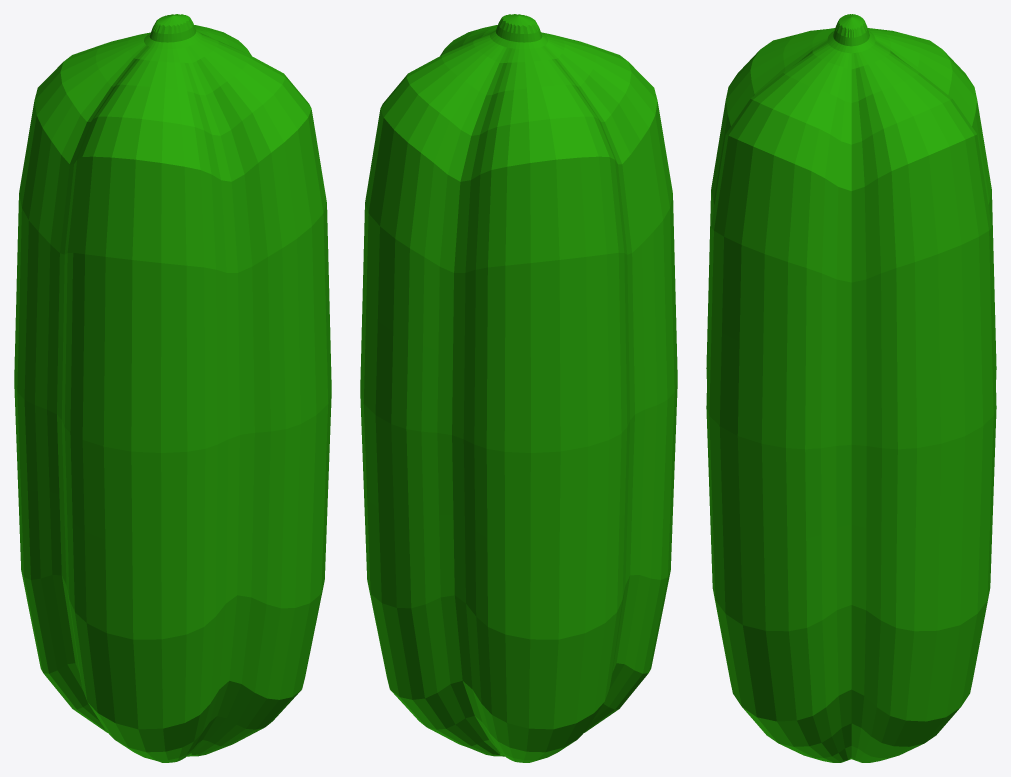
Rendered from Linga.glb.
3 views of the same model, side by side, from view 1: azimuth 30°, elevation 25°; view 2: azimuth 150°, elevation 25°; view 3: azimuth 270°, elevation 25° (orthographic).
Parts seen in each view (by area): view 1: Cylinder; view 2: Cylinder; view 3: Cylinder.
Part boxes in pixels (<box>): Cylinder: <box>14,14,331,762</box>; Cylinder: <box>360,14,677,762</box>; Cylinder: <box>706,14,996,762</box>.
Size of the model in its own units: 1.71 by 4.83 by 1.71.
